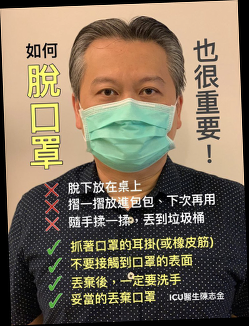with_mask: (80, 72, 176, 174)
